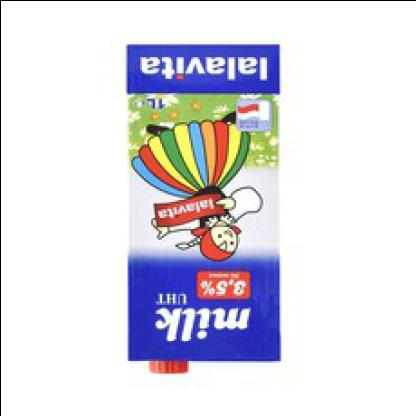tetra: (106, 28, 314, 406)
